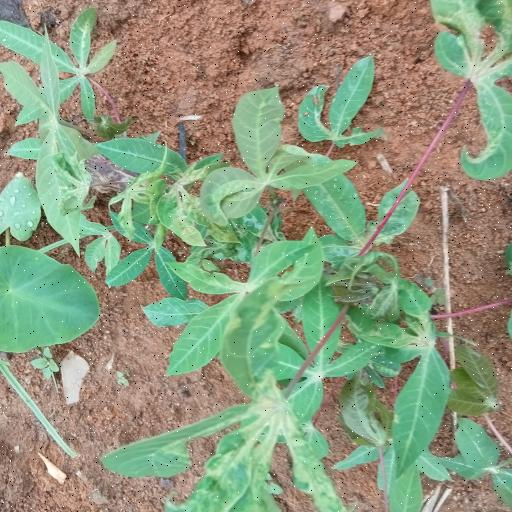Cassava_Mosaic: (124, 359, 341, 512), (208, 96, 342, 210), (430, 0, 512, 182)
